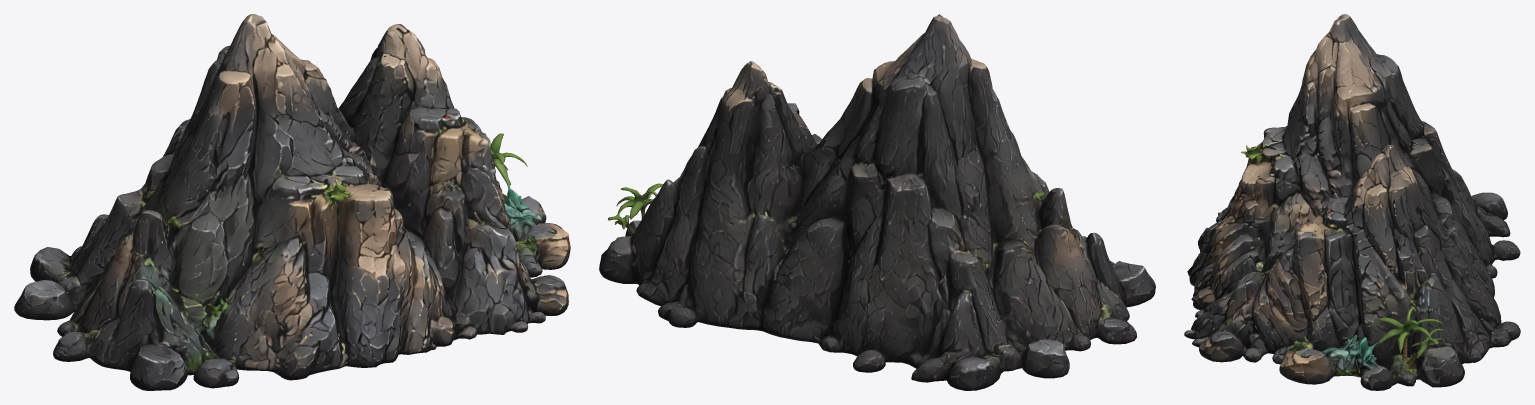
Rendered from terrain-mountain-hyper3d.glb.
The picture shows the model from 3 angles, left to right: view 1: azimuth 30°, elevation 25°; view 2: azimuth 150°, elevation 25°; view 3: azimuth 270°, elevation 25°; orthographic projection. The views are drawn at different scales.
Visible parts, largest first — view 1: model; view 2: model; view 3: model.
Part boxes in pixels (box(x1,y1,x2,y2)): model: box(14, 14, 570, 390); model: box(599, 14, 1155, 390); model: box(1184, 14, 1520, 390).
Size of the model in its own units: 1.89 by 1.04 by 1.27.
1 material, 1 textured.
